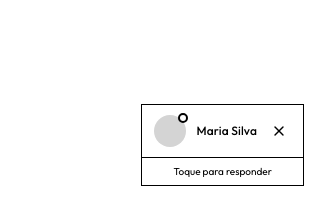
Test case: MiniChatPiP › expands when "Toque para responder" is clicked
The image size is (316, 203).
Click the button "Toque para responder" at (223, 171), box 142,157 -> 303,185
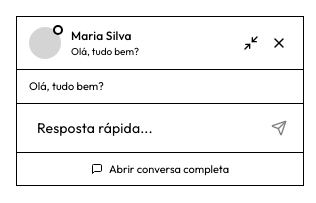
expect the field with placeholder "Resposta rápida..." is shown: met, box 25,112 -> 257,144
